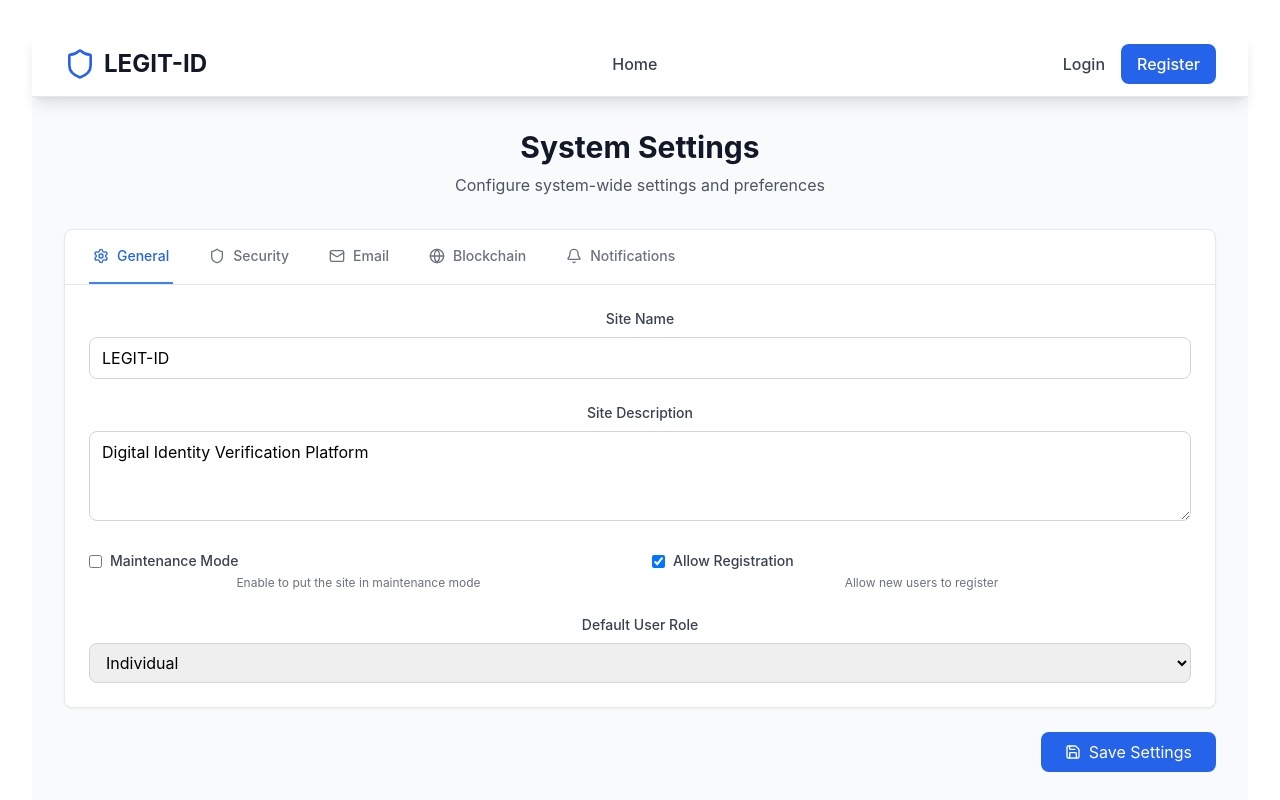
Test: AdminSystemSettingsPage › renders blockchain settings when blockchain tab is clicked
Click the button "Blockchain" at (478, 257), box top-left (425, 230), bottom-right (530, 284)
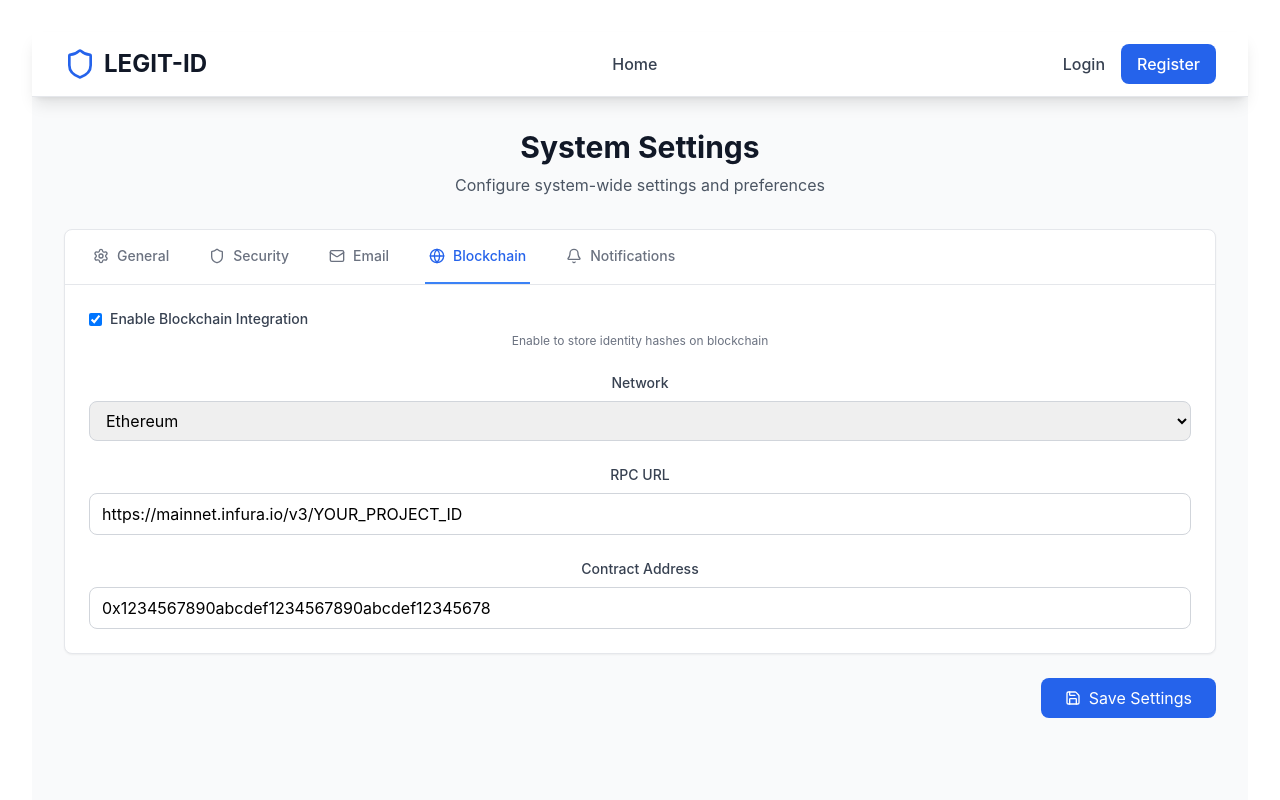
Expected: the text "Enable Blockchain Integration" is shown, top-left (110, 309), bottom-right (308, 329)
Expected: the text "Network" is shown, top-left (611, 374), bottom-right (668, 391)
Expected: the text "RPC URL" is shown, top-left (610, 466), bottom-right (670, 483)
